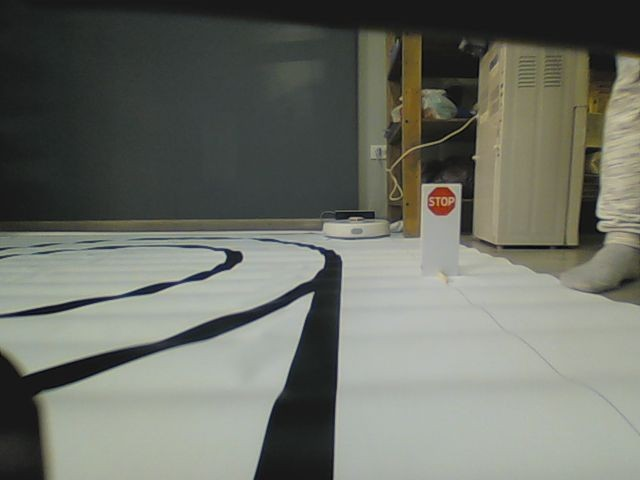Stop: (426, 186, 456, 216)
